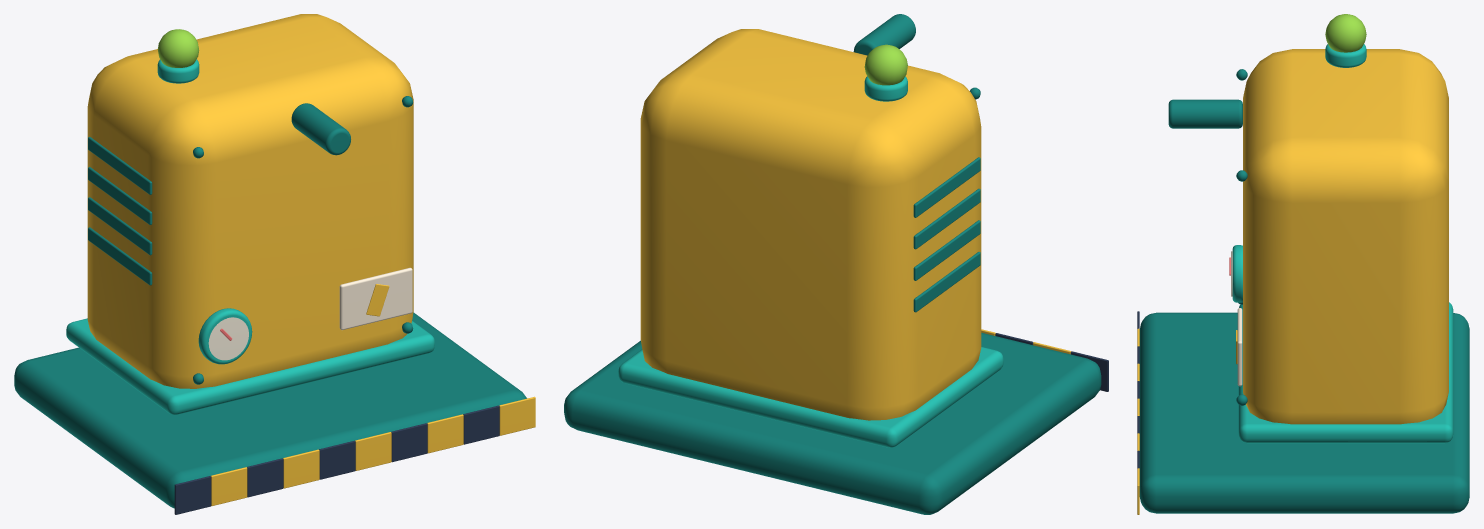
File: GenCrank.fbx
3 renders of one model, left to right at view 1: azimuth 30°, elevation 25°; view 2: azimuth 150°, elevation 25°; view 3: azimuth 270°, elevation 25°, orthographic. The views are drawn at different scales.
Parts seen in each view (by area): view 1: GenCrank mesh; view 2: GenCrank mesh; view 3: GenCrank mesh.
Part boxes in pixels (left/top/right/bottom): GenCrank mesh: left=14, top=14, right=535, bottom=514; GenCrank mesh: left=564, top=14, right=1108, bottom=514; GenCrank mesh: left=1137, top=14, right=1469, bottom=514.
Bounding box in the file's own units: 1 × 1.02 × 0.806.
